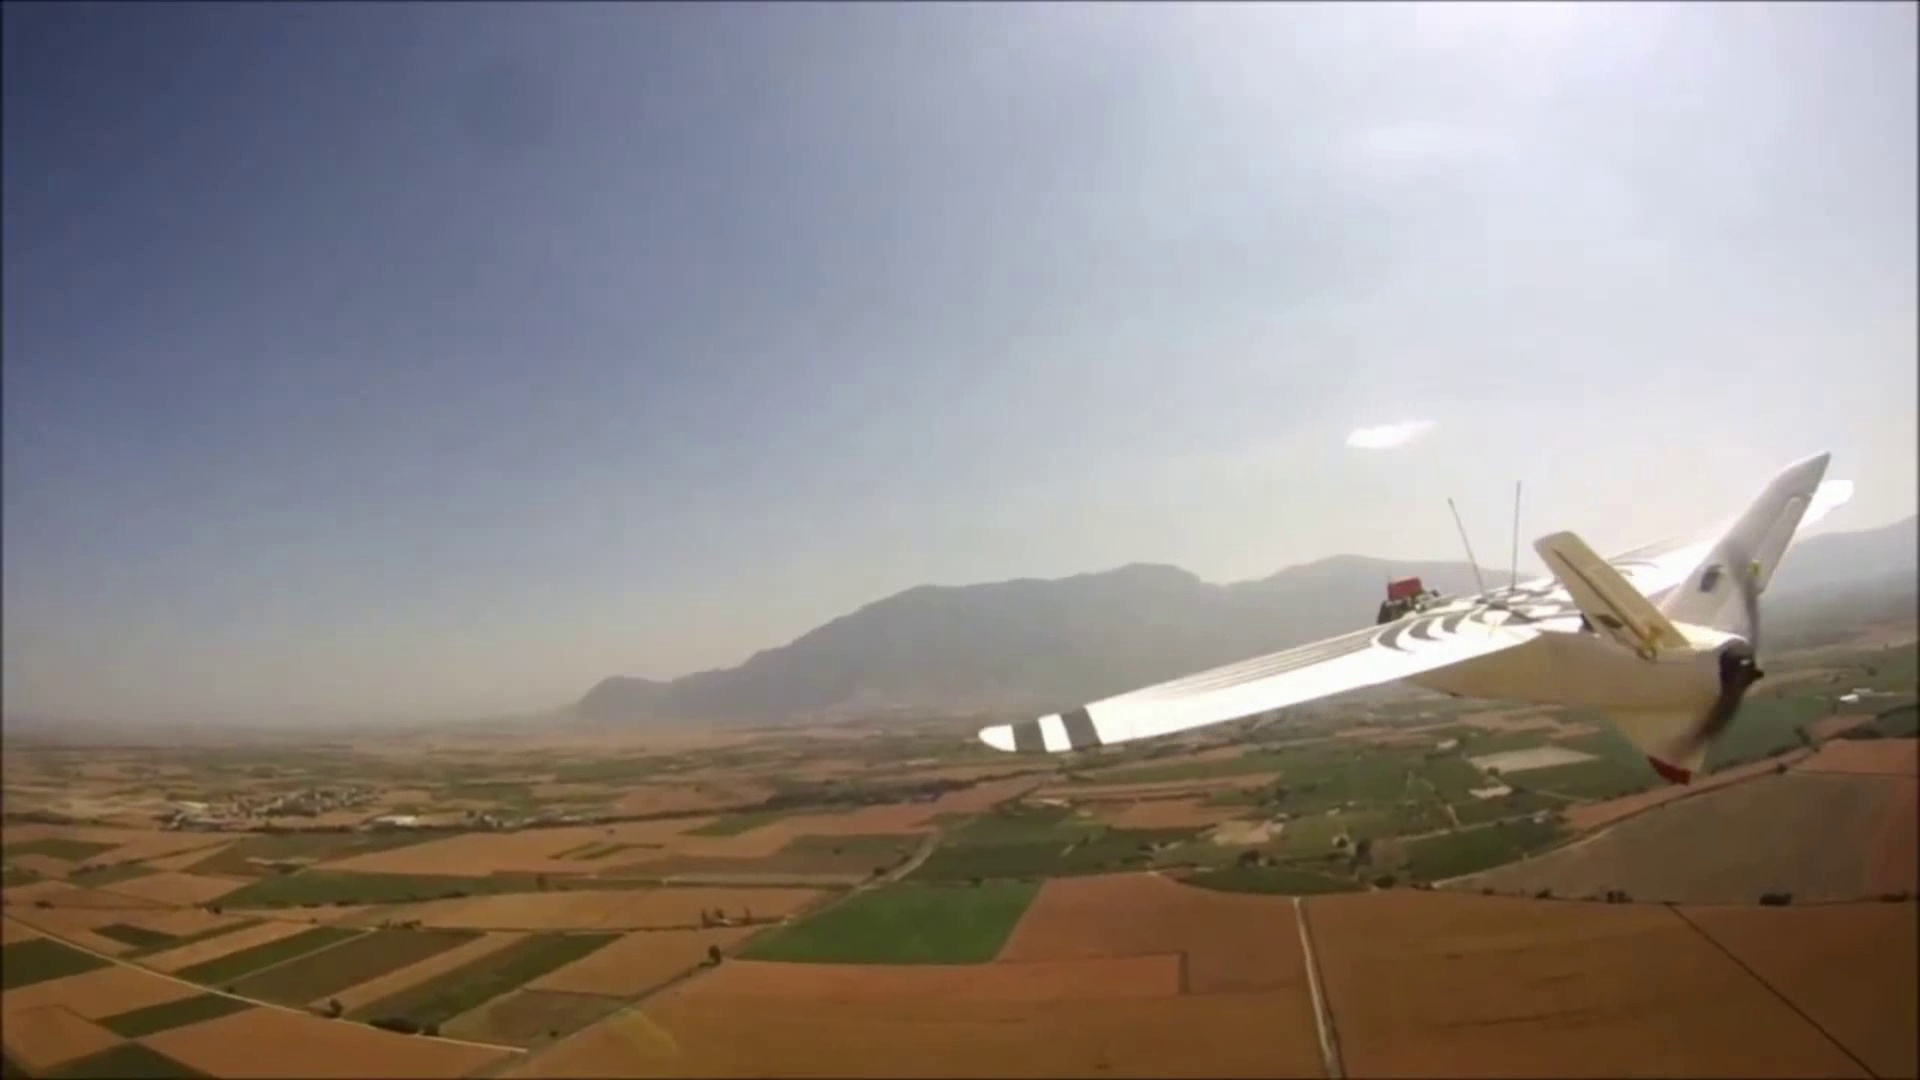airplane: (27, 456, 1905, 998)
